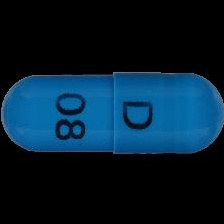33261-967: (0, 0, 224, 224)
